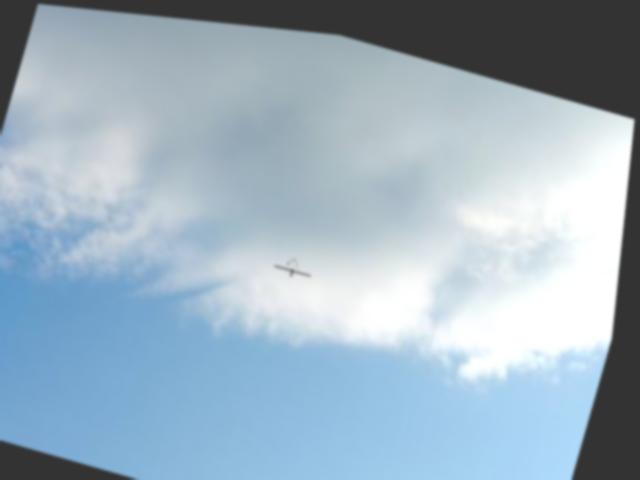uav: (276, 246, 321, 275)
